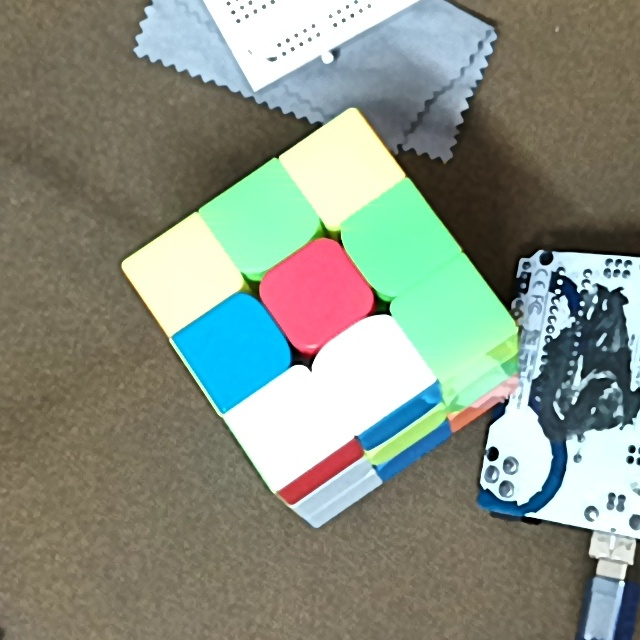tile: (338, 336, 403, 401), (258, 394, 320, 460), (150, 242, 214, 305), (364, 212, 427, 276), (284, 263, 346, 326), (309, 136, 375, 195), (424, 287, 482, 352), (205, 319, 267, 379), (232, 191, 293, 249)
